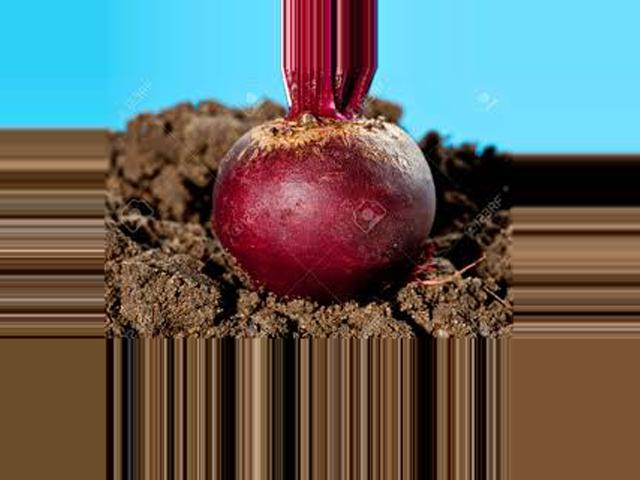beet: (212, 67, 437, 300)
